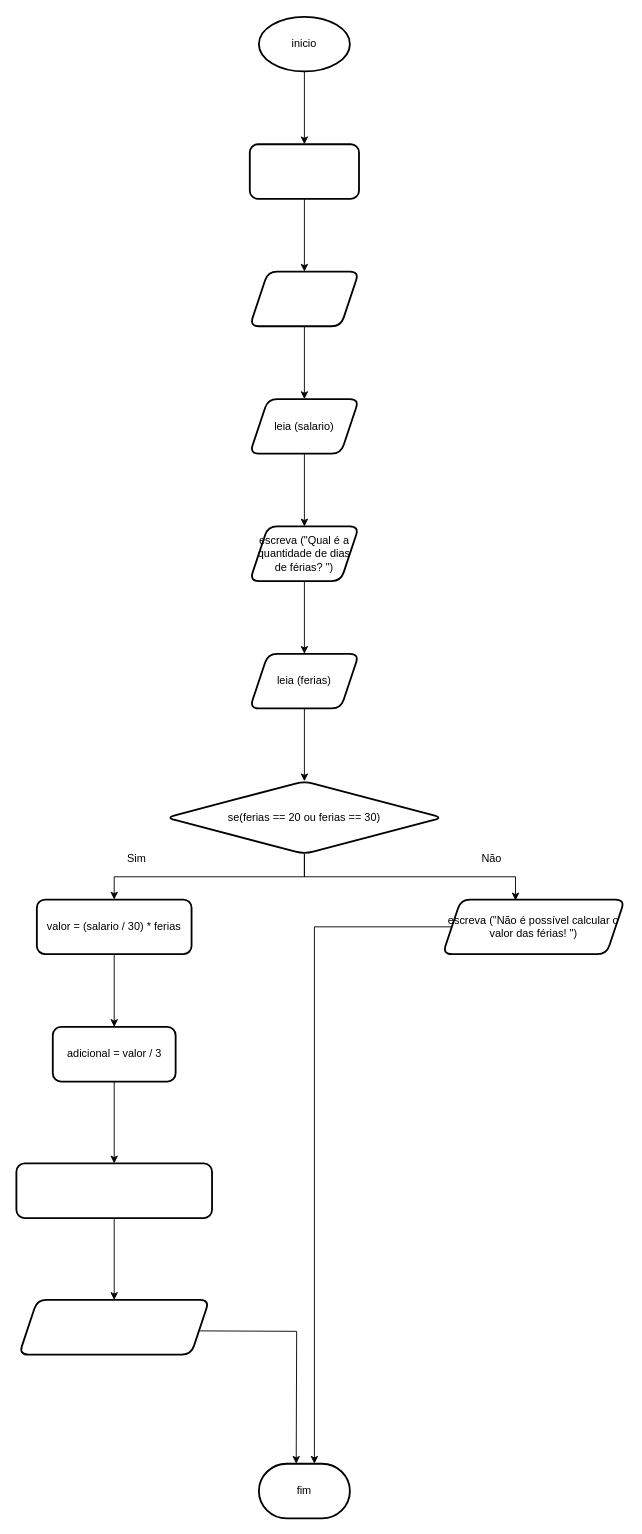
Some shapes in this 642 by 1534 pixel diagram are drawn without their labels. Each missing label, with the centre of its shape:
escreva ("O valor das férias é de R$", valorDasFerias): point 114,1327
escreva ("Qual é o salário do funcionário? "): point 303,298
real salario, ferias, adicional20, valor20, adicional30, valor30, valorDasFerias: point 303,171
valorDasFerias = valor + adicional: point 113,1190
